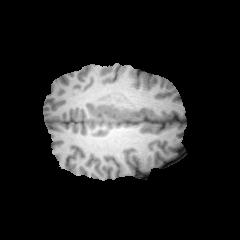glioma: (89, 92, 136, 122)
